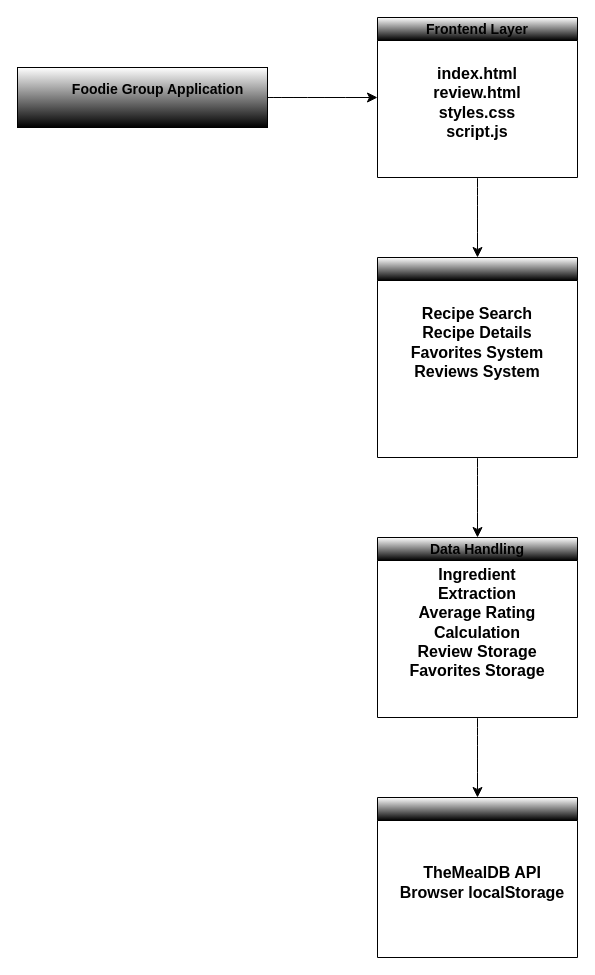
Image size: 595x975. Some labels were removed from this diagram. The shapes that lost their labels are listed below. From the top down, each one's box as (x1, y1, x2, y2) in pixels, then its label:
(376, 256, 578, 458): Core Application
(376, 796, 578, 958): Data Sources
